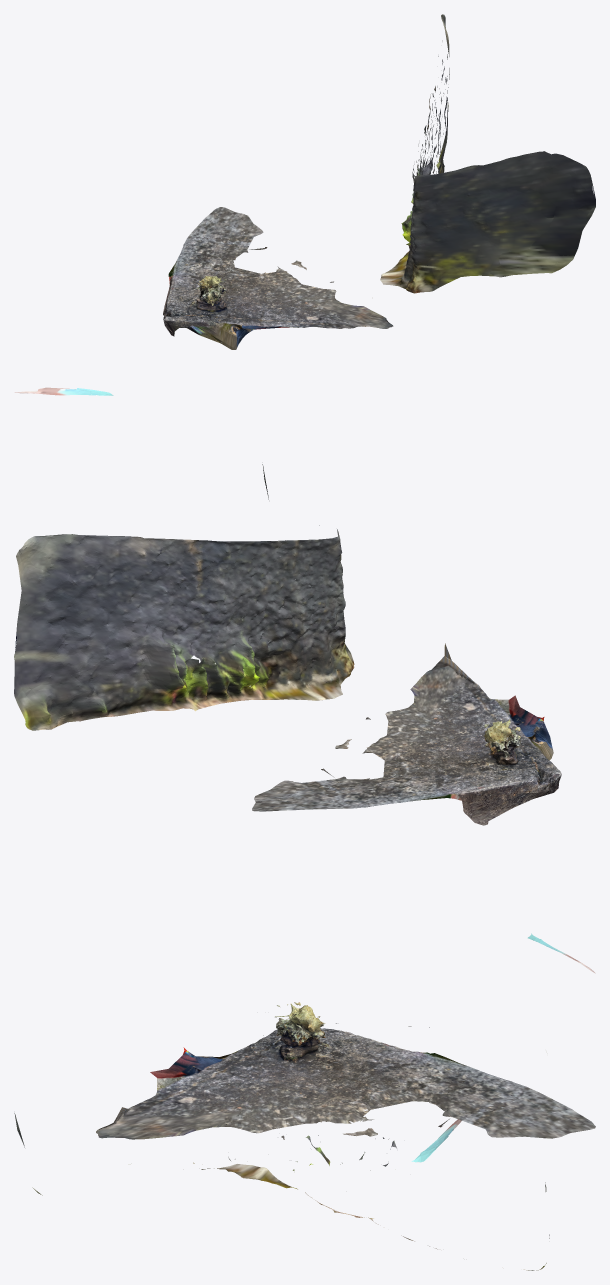
Rendered from Musgo_Ligeia.glb.
The picture shows the model from 3 angles, top to bottom: view 1: azimuth 30°, elevation 25°; view 2: azimuth 150°, elevation 25°; view 3: azimuth 270°, elevation 25°; orthographic projection. The views are drawn at different scales.
Visible parts, largest first — view 1: mesh; view 2: mesh; view 3: mesh.
Boxes of the visible parts, x1=… form: mesh: x1=14, y1=14, x2=595, y2=395; mesh: x1=14, y1=464, x2=595, y2=973; mesh: x1=14, y1=1002, x2=595, y2=1270.
Bounding box in the file's own units: 1.04 × 0.5743 × 0.7589.
1 material, 1 textured.
